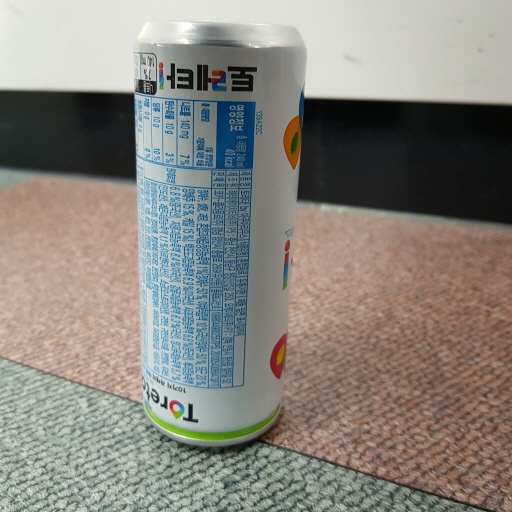Metal_0: (130, 18, 310, 455)
